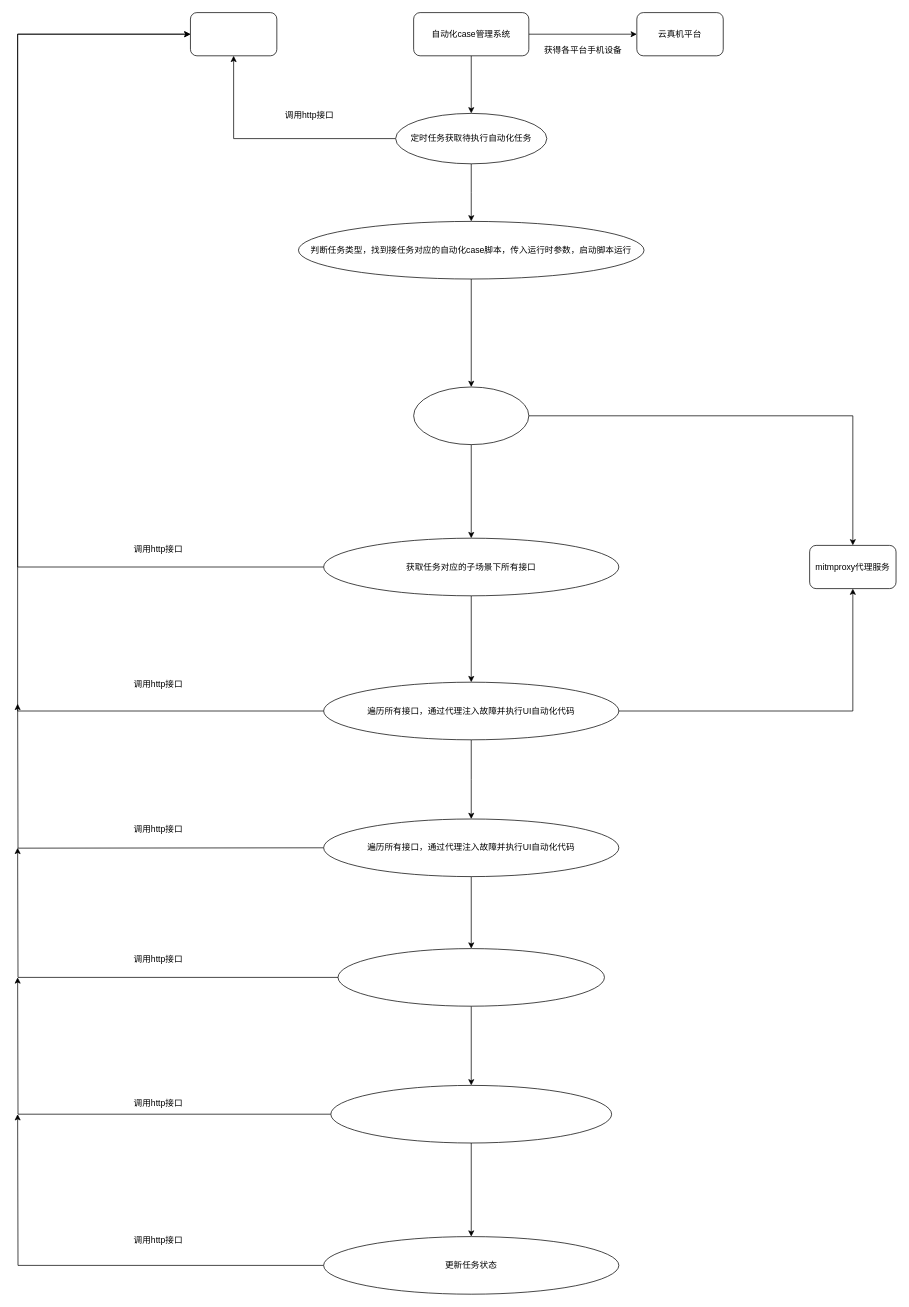
Image size: 909x1307. Some labels were removed from this diagram. Each missing label, with the centre of its shape:
"advisor" belongs at (233,34).
"上传故障注入后执行UI自动化代码得到的截图" belongs at (470,977).
"上报进度与执行日志" belongs at (471,1114).
"连接代理服务" belongs at (471,415).
